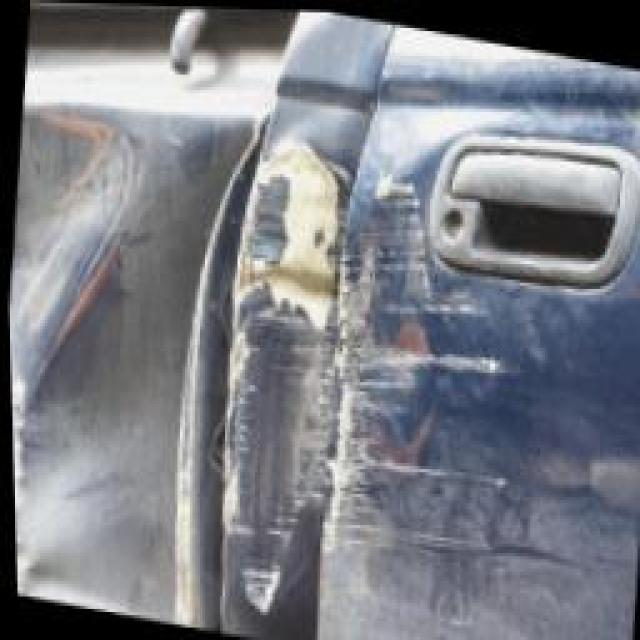Door: (305, 103, 542, 639), (175, 96, 370, 640)
Fender: (2, 84, 164, 461)
